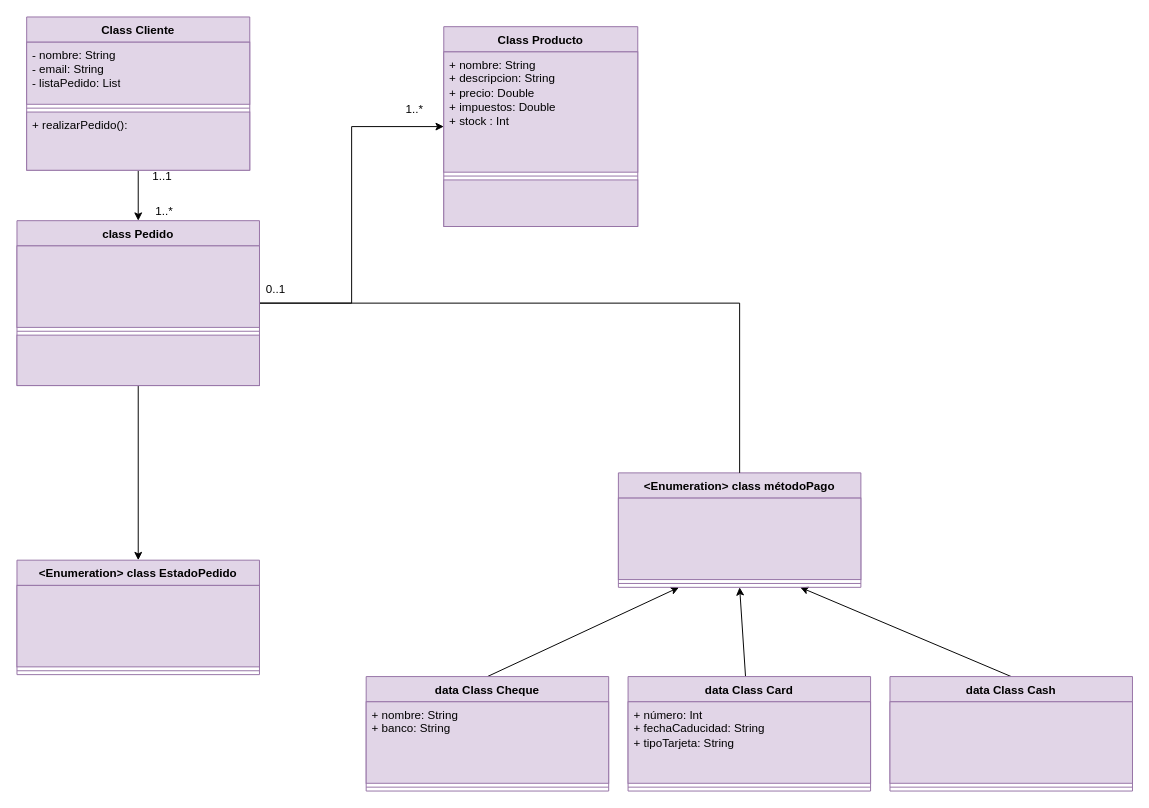
The diagram is 1149 pixels wide and 808 high, and some of its shapes have lost their labels. The shapes that lost their labels are listed below. From the top down, each one's centre as x and y in pixels, then its label:
At (540,202): "+ calcularCoste(cantidad: Int) + consultarStock()".
At (137,286): "Estado: EstadoPedido TipoPago: tipoPago listaProducto: Producto".
At (137,360): "+ calcularCoste() + realizarPedido():".
At (739,538): "TARJETA EFECTIVO TRANSFERENCIA".
At (137,625): "PDTE PGDO PCDO ENVDO ENTGDO".
At (1010,742): "+ TipoMoneda: String".
